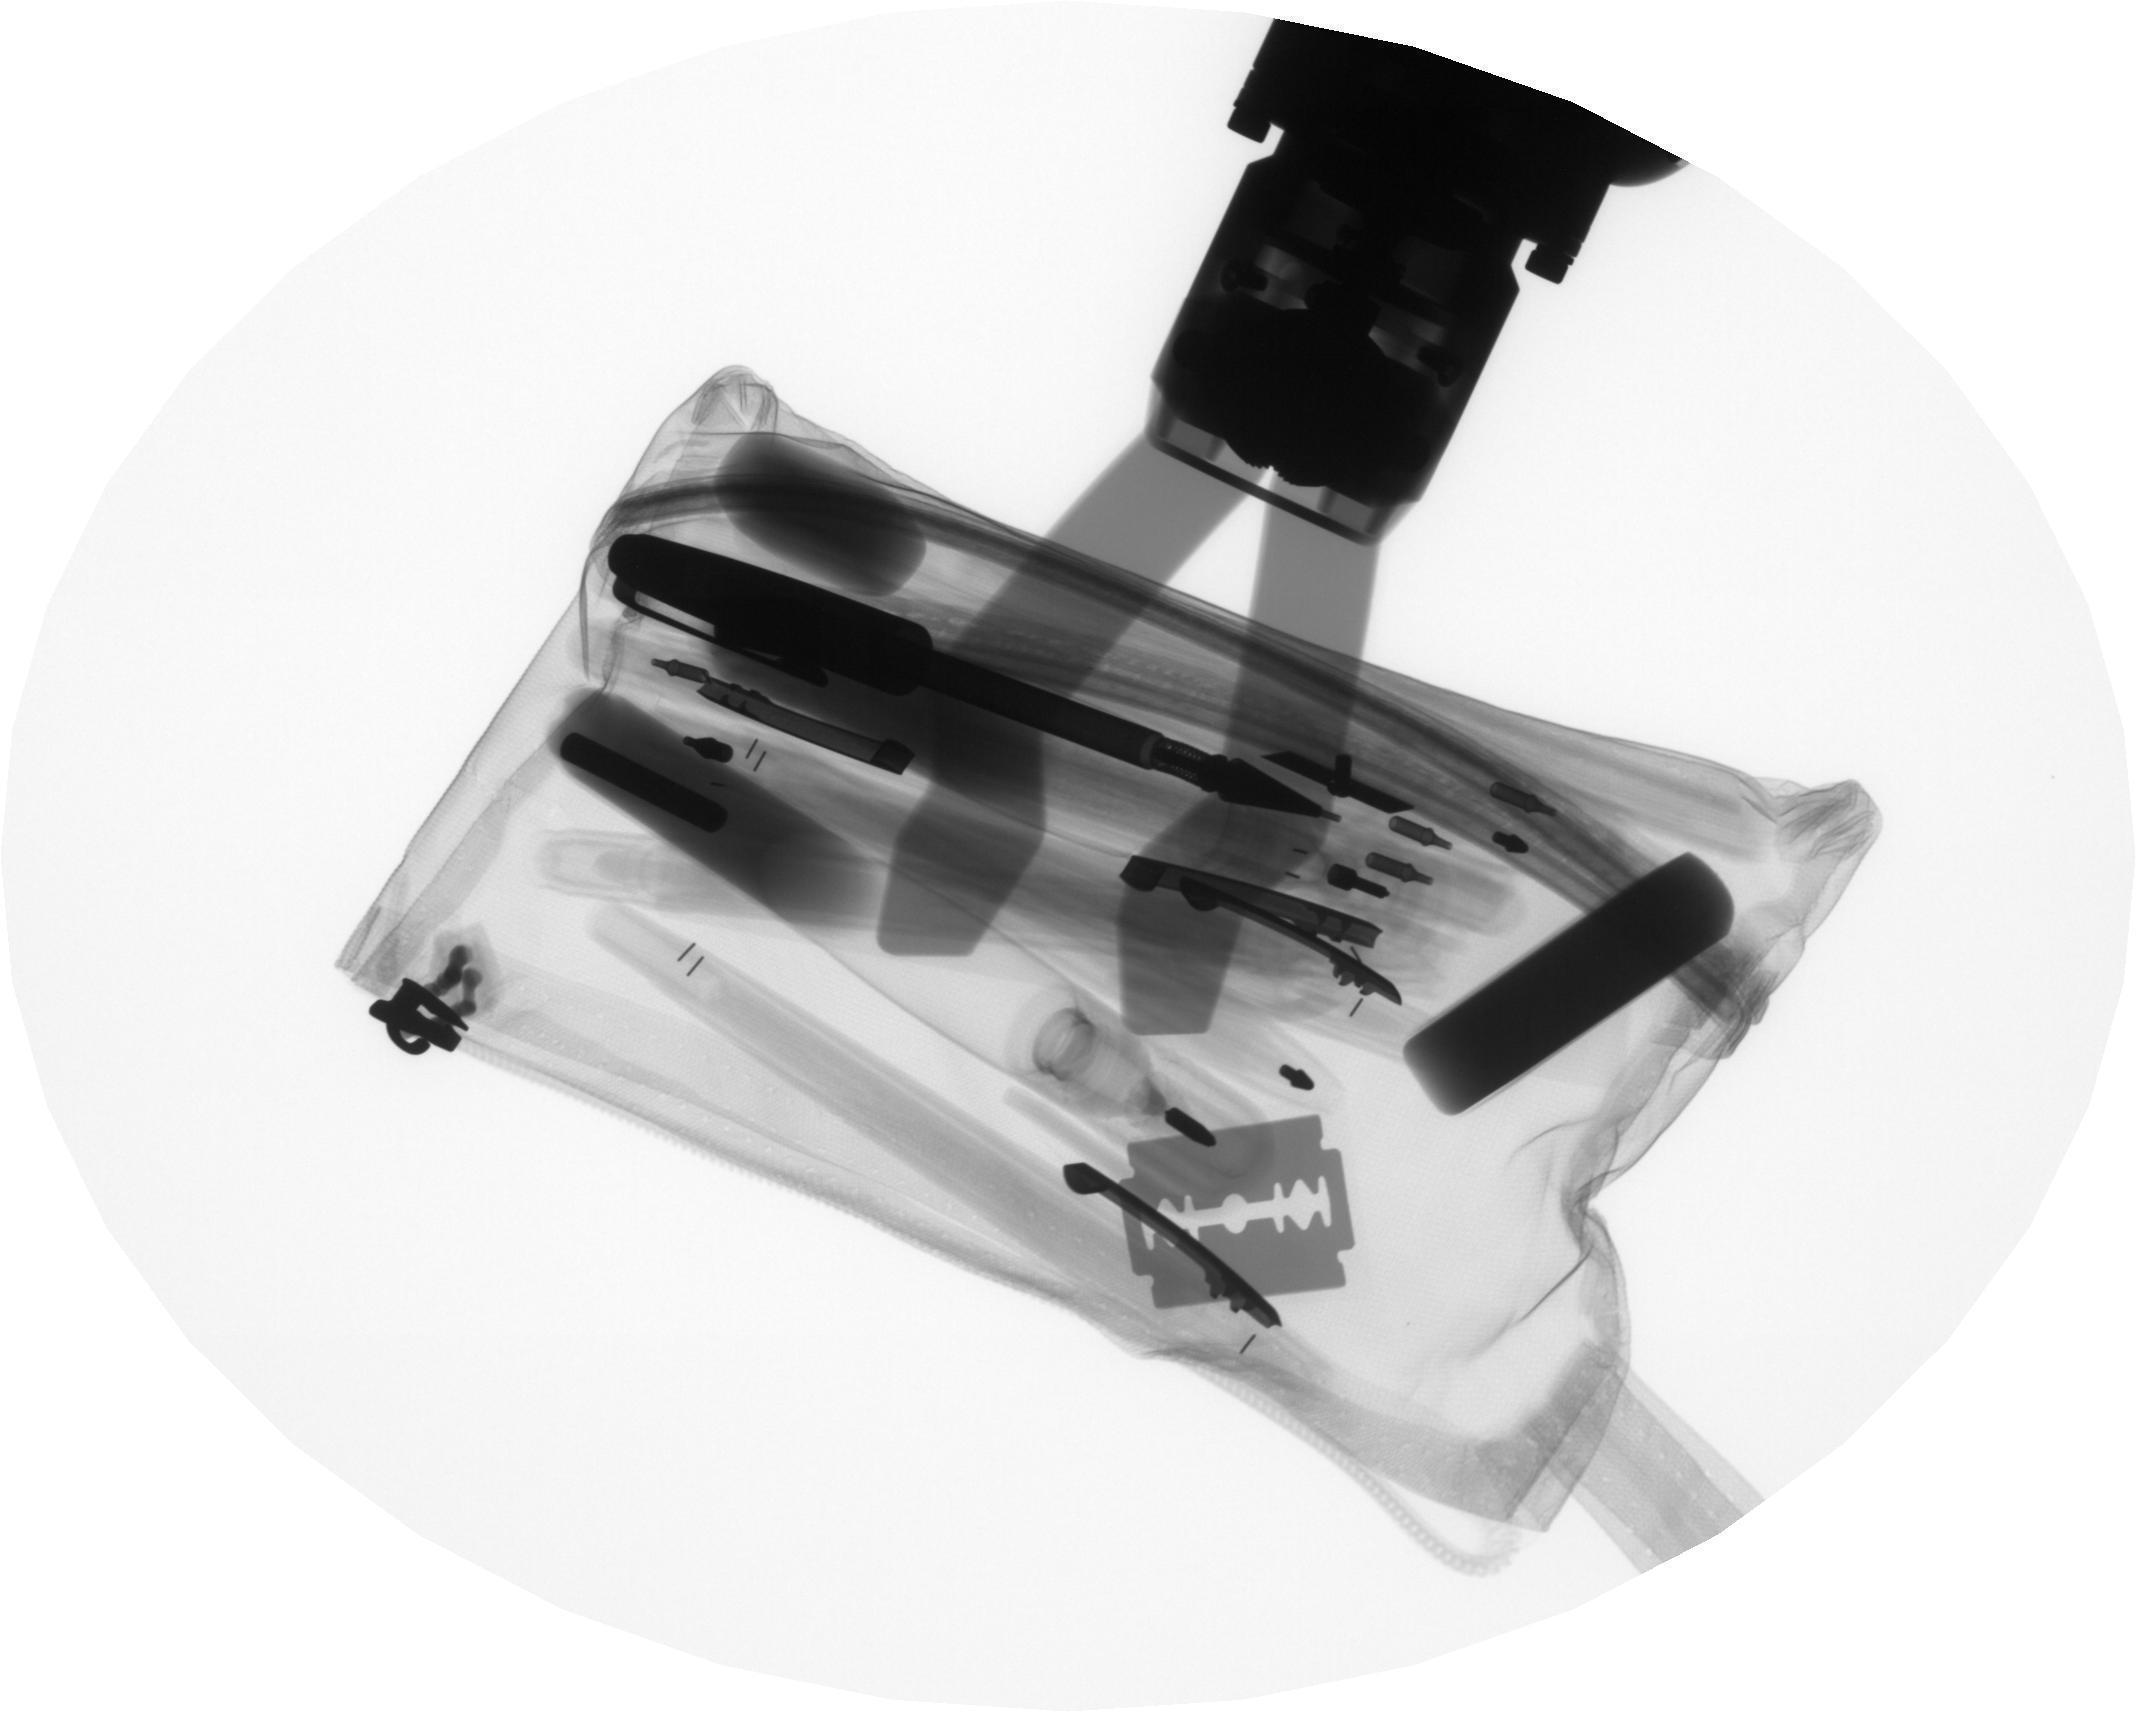RazorBlade: (1111, 1106, 1364, 1317)
